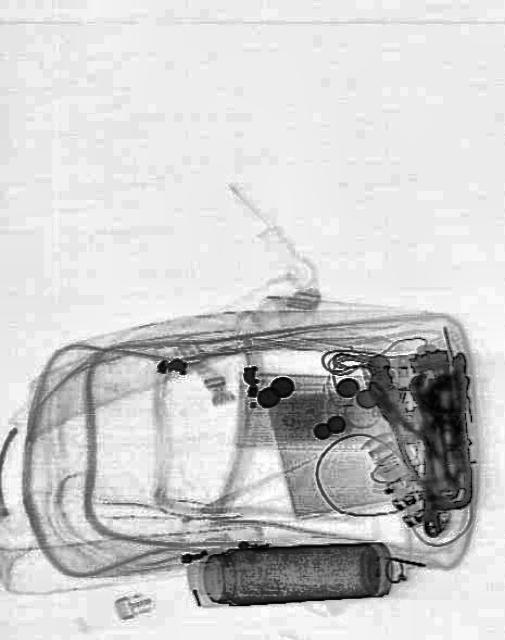Pliers: (354, 368, 452, 494)
Wrench: (404, 370, 448, 538)
